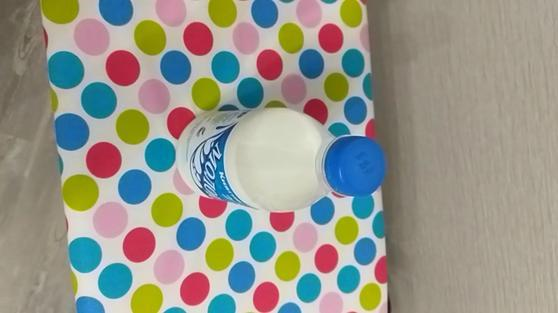milk: (175, 95, 411, 214)
